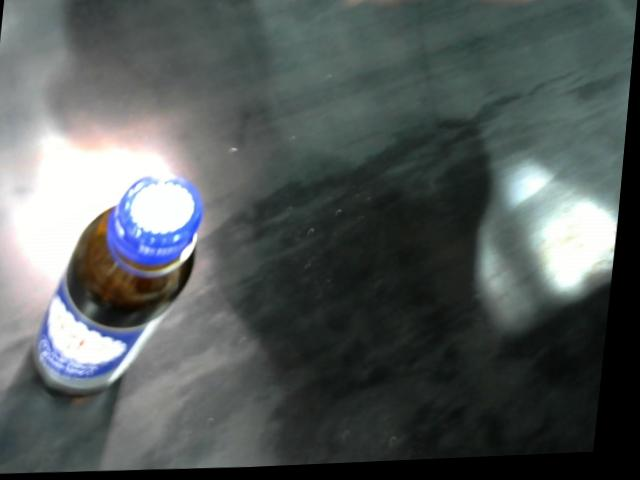glass: (34, 171, 209, 408)
